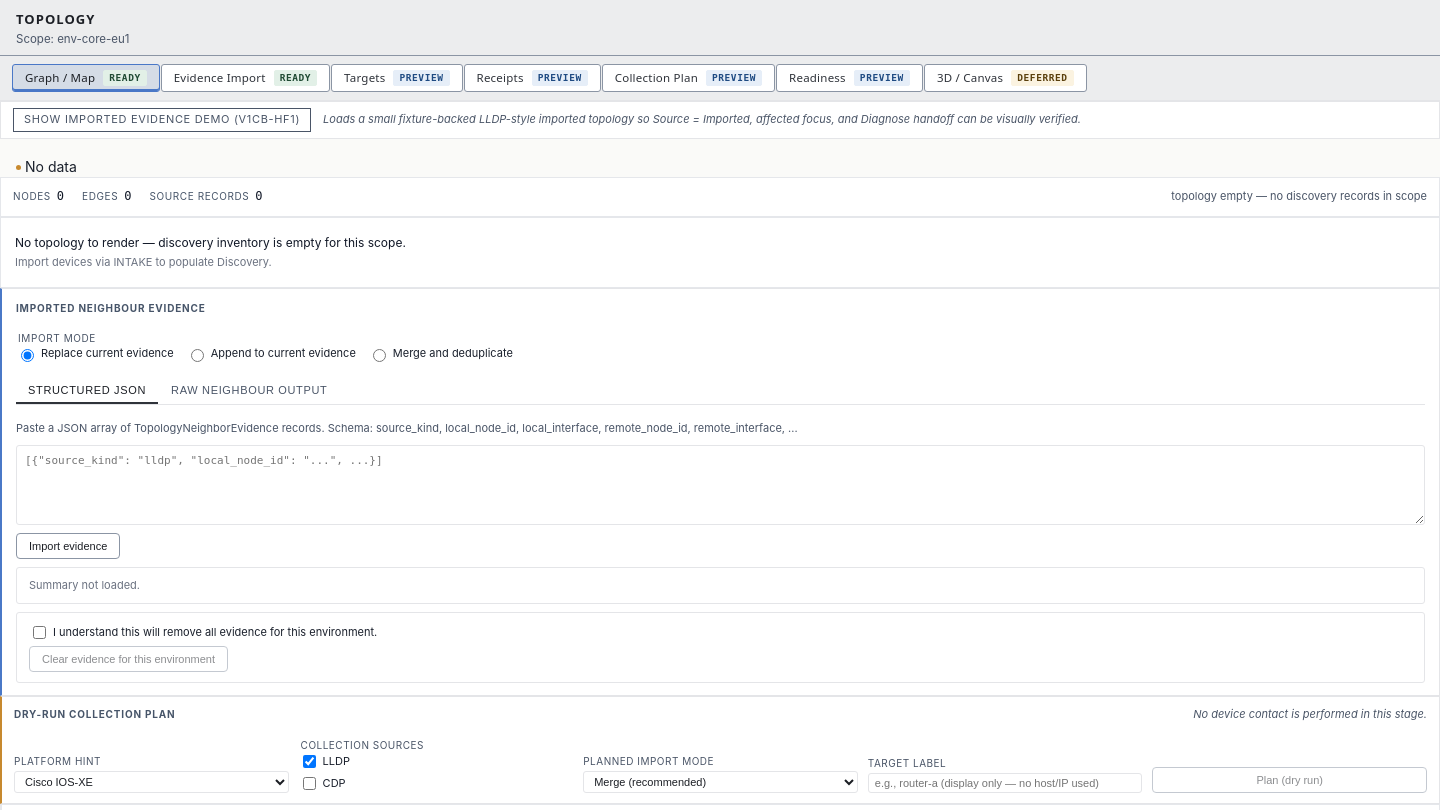
Test: TopologyMode › TopologyMode — V1AR Import mode + evidence summary + clear (UI) › selecting append mode switches the radio
Expected: the radio button with test id "tm-import-mode-replace" is checked, left=21, top=349, right=34, bottom=362
Click the radio button with test id "tm-import-mode-append" at (197, 355), box left=191, top=349, right=204, bottom=362
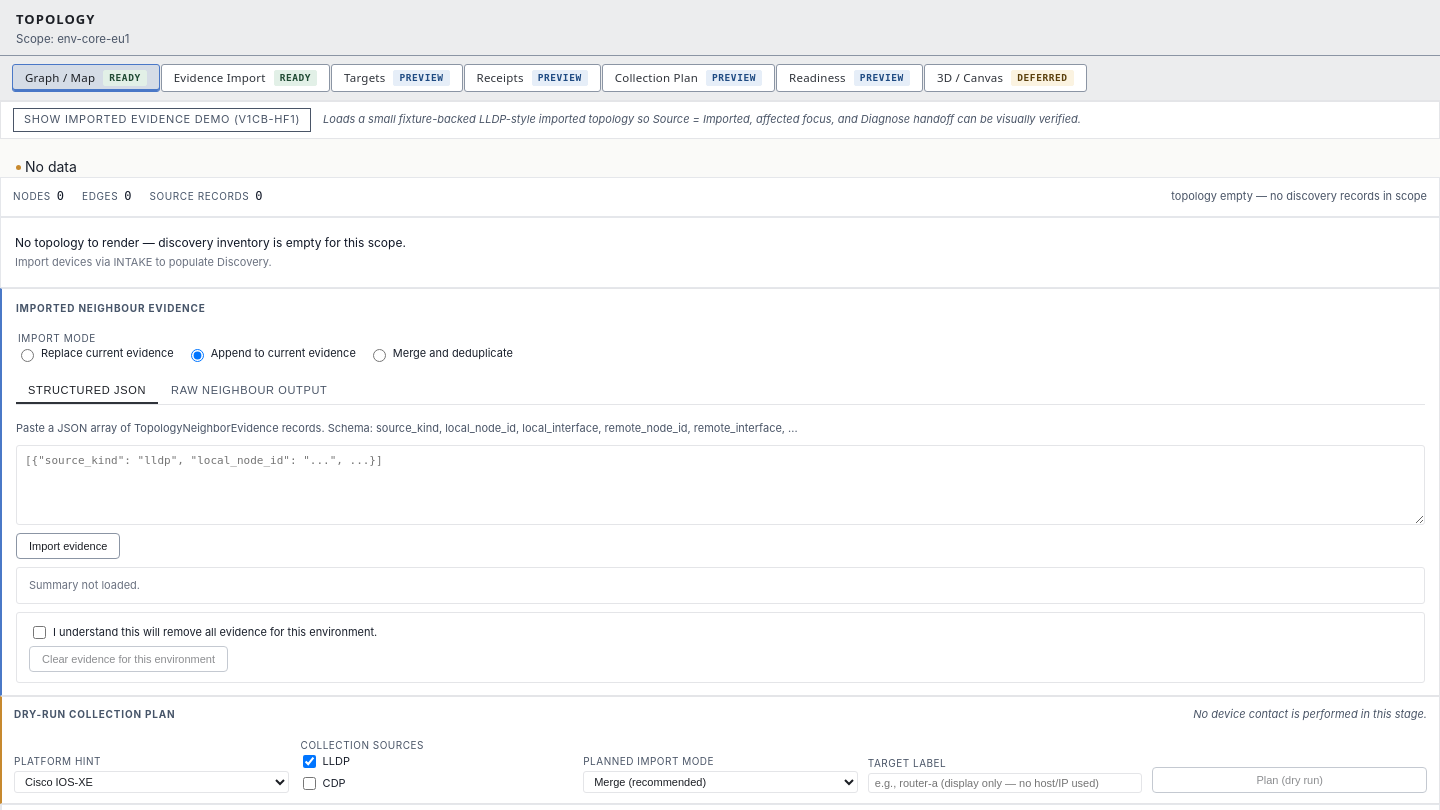
Result: the radio button with test id "tm-import-mode-append" is checked at left=191, top=349, right=204, bottom=362
Result: the radio button with test id "tm-import-mode-replace" is not checked at left=21, top=349, right=34, bottom=362
